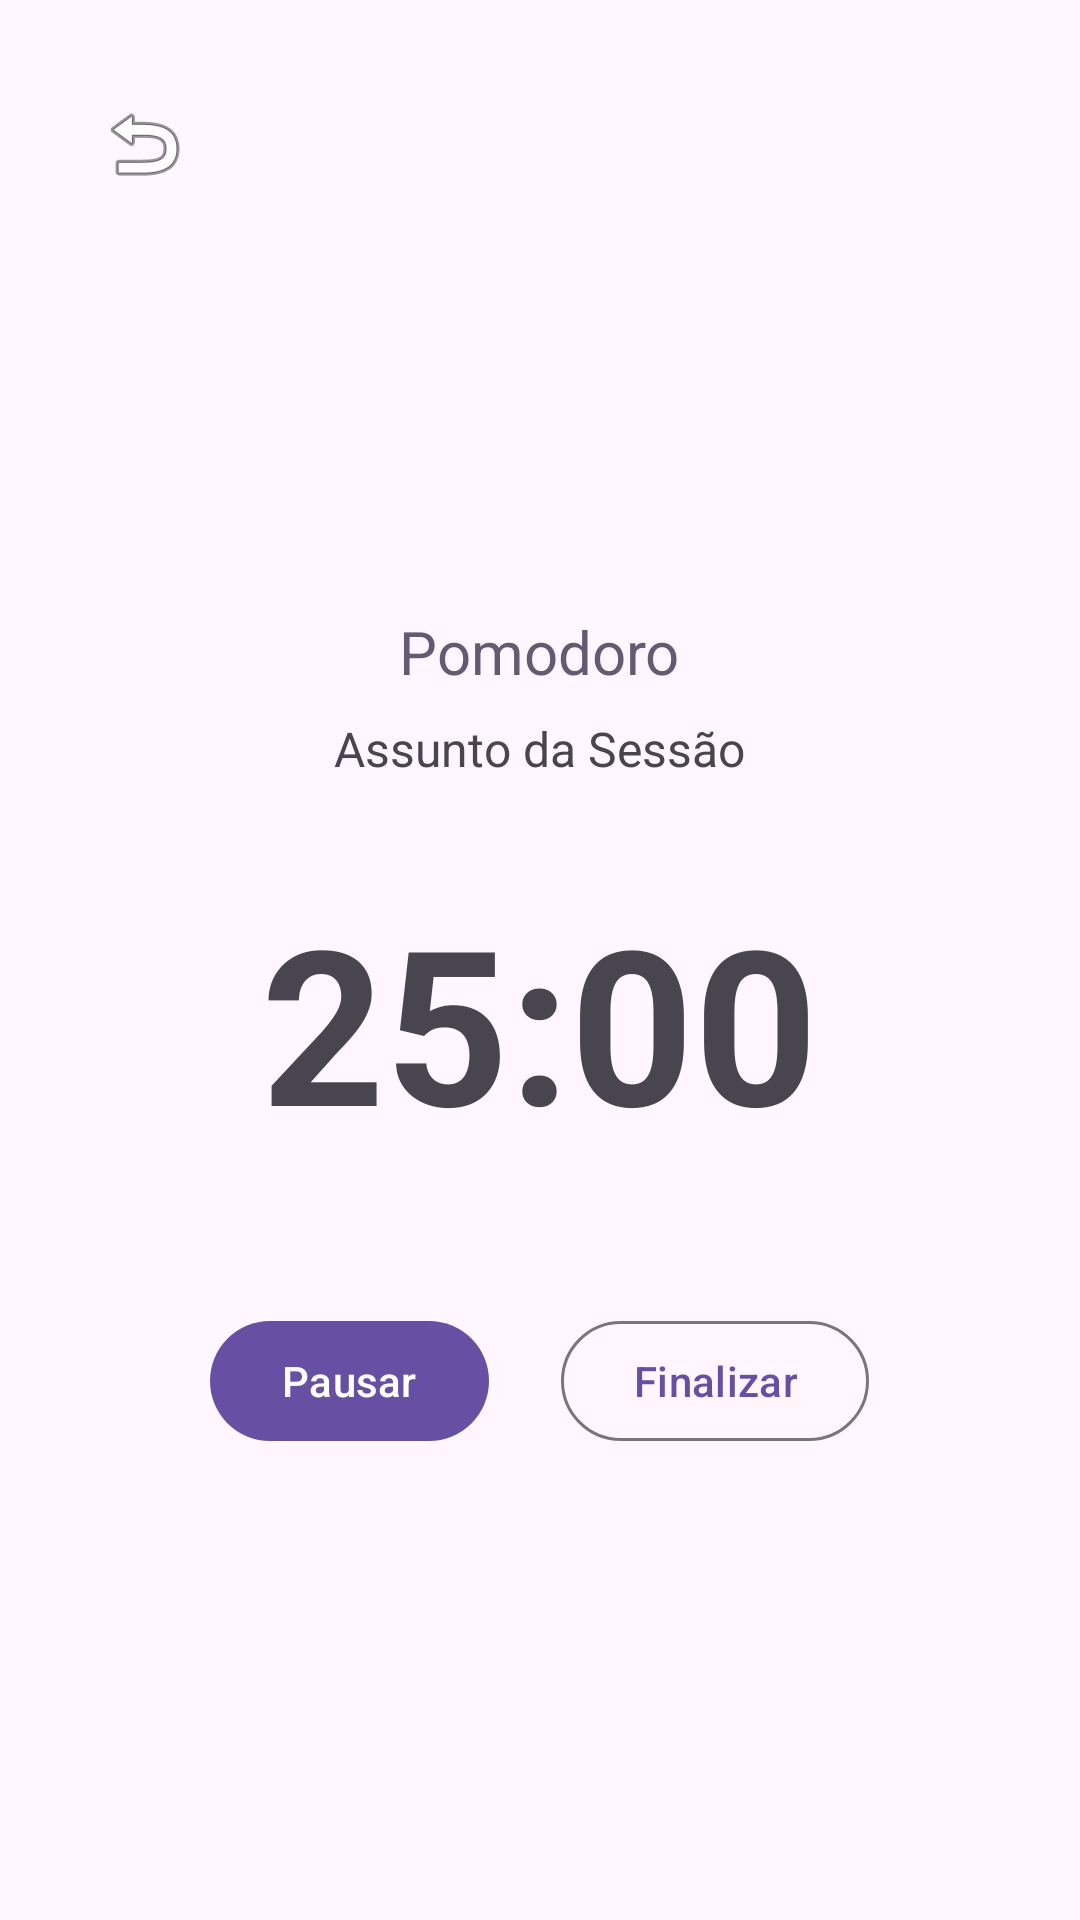

Named icons in this screenshot (1080x1920) and their bounding boxes, (x1, y1, x2, y2):
Voltar: (111, 113, 180, 176)
